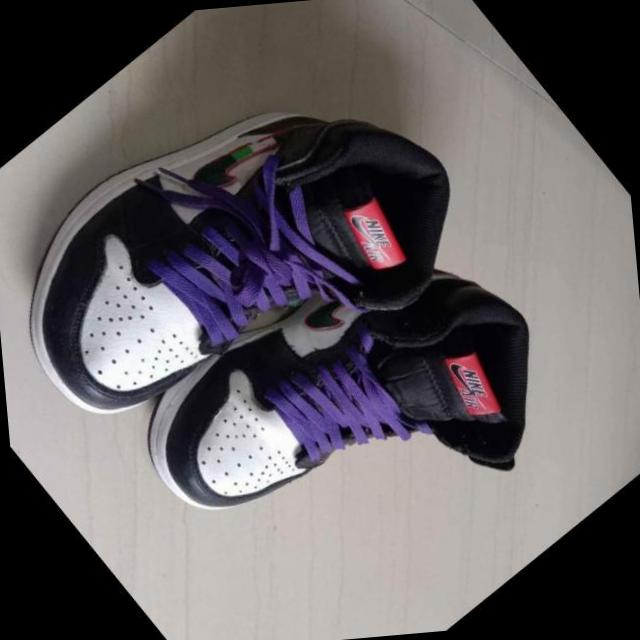nike_fake_jordan: (0, 0, 523, 526), (90, 150, 624, 640)
